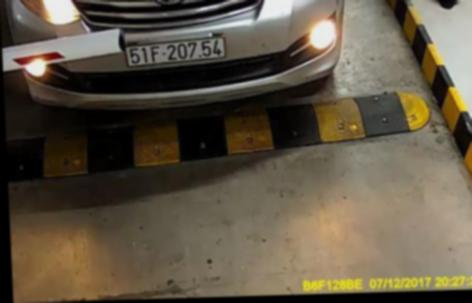License_Plate: (125, 38, 228, 69)
